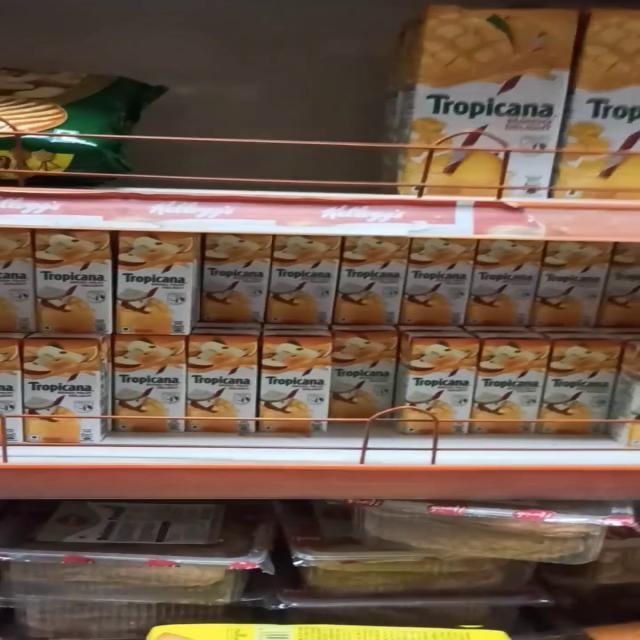Tropicana: (407, 0, 564, 203), (32, 226, 121, 343), (19, 335, 105, 440), (115, 227, 193, 327), (332, 234, 410, 330), (183, 340, 263, 433), (251, 342, 329, 437), (116, 338, 190, 433), (265, 236, 343, 324), (405, 340, 475, 438), (402, 234, 474, 325), (204, 239, 272, 328), (323, 340, 393, 426), (533, 243, 599, 331), (553, 337, 615, 429), (478, 341, 540, 430), (476, 242, 538, 329)
